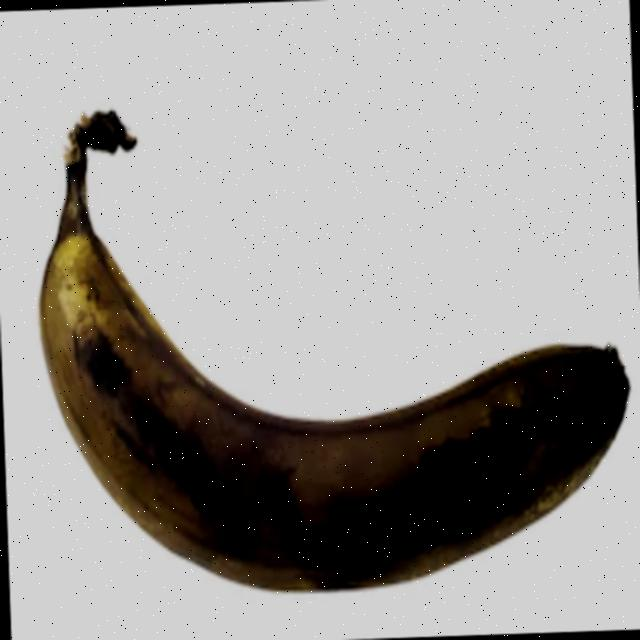Rotten: (8, 74, 640, 616)
